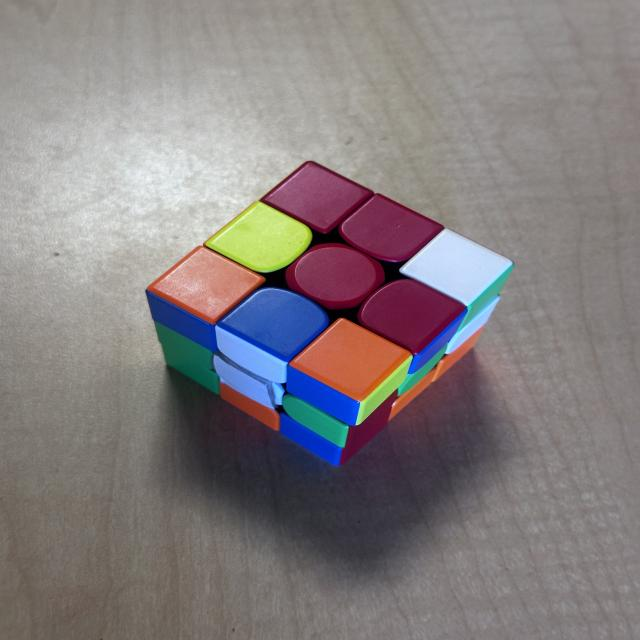sticker: (285, 318, 413, 425), (217, 288, 330, 387), (147, 245, 266, 327), (356, 279, 465, 366), (398, 229, 513, 309), (281, 391, 395, 467), (261, 160, 374, 236), (391, 326, 480, 422), (206, 201, 314, 273), (337, 193, 443, 264), (284, 243, 386, 312), (151, 319, 217, 393), (212, 351, 284, 413), (444, 292, 501, 357), (277, 409, 340, 465), (282, 393, 347, 446), (394, 343, 447, 403), (218, 381, 280, 432), (436, 321, 486, 378), (392, 363, 438, 419)
